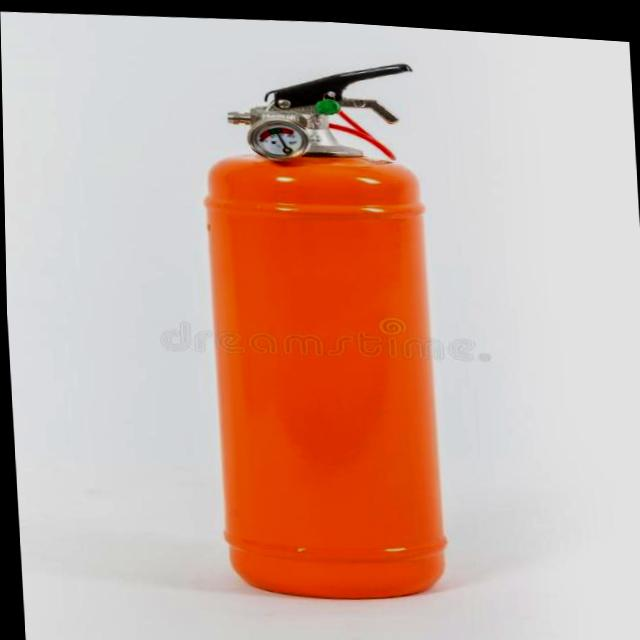FireExtinguisher: (184, 39, 454, 607)
